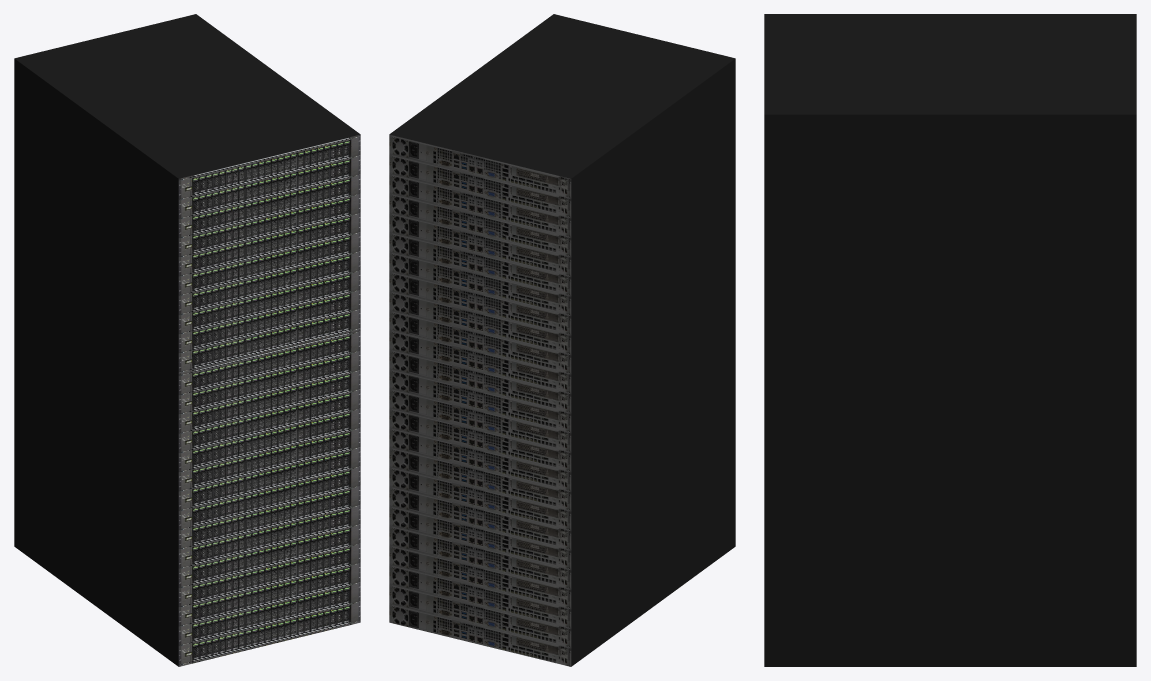
File: NDR25.fbx
3 renders of one model, left to right at view 1: azimuth 30°, elevation 25°; view 2: azimuth 150°, elevation 25°; view 3: azimuth 270°, elevation 25°, orthographic. The views are drawn at different scales.
Parts seen in each view (by area): view 1: NDR25; view 2: NDR25; view 3: NDR25.
Boxes of the visible parts, x1,y1,x2,y2 form: NDR25: [14, 14, 360, 666]; NDR25: [389, 14, 735, 666]; NDR25: [764, 14, 1136, 666].
Bounding box in the file's own units: 434 × 1112 × 680.
3 materials, 2 textured.
